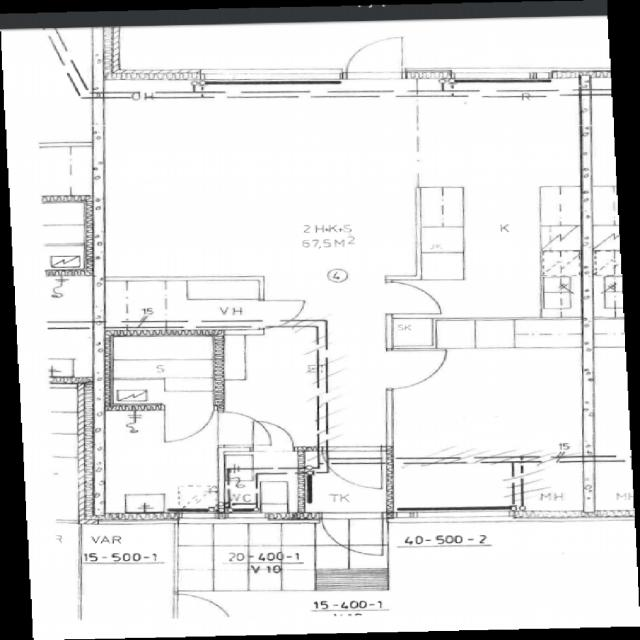door: (321, 512, 383, 565), (347, 32, 402, 80), (322, 447, 382, 491), (386, 351, 448, 388), (170, 594, 229, 628), (165, 404, 213, 443), (217, 412, 273, 445), (386, 282, 442, 314), (253, 420, 293, 452), (259, 302, 304, 328)
